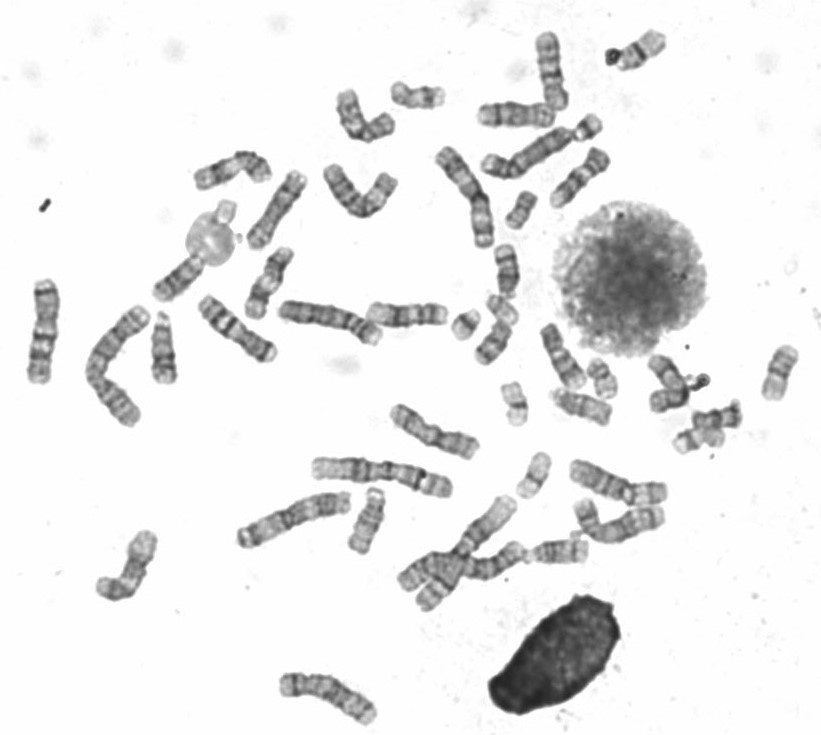chromosomes: (412, 493, 521, 621), (78, 298, 154, 437), (391, 533, 532, 595), (231, 488, 354, 557), (302, 452, 463, 504), (431, 141, 501, 250), (270, 668, 383, 734), (384, 397, 484, 469), (275, 296, 388, 357), (195, 293, 286, 368), (91, 525, 163, 609), (18, 274, 68, 394), (566, 455, 675, 510), (478, 123, 573, 186), (245, 167, 312, 256), (569, 495, 670, 549), (237, 242, 301, 324), (320, 159, 401, 223), (544, 146, 619, 213), (530, 25, 580, 120), (329, 84, 399, 149), (534, 316, 590, 394), (192, 146, 274, 195), (344, 484, 396, 560), (606, 25, 675, 80), (148, 248, 211, 306), (544, 384, 618, 433), (642, 350, 695, 417), (472, 95, 562, 134), (756, 338, 802, 407), (363, 298, 459, 331), (146, 305, 182, 392), (387, 74, 453, 121), (510, 450, 559, 504), (681, 398, 749, 436), (516, 536, 596, 568), (489, 238, 526, 304), (494, 378, 535, 432), (581, 356, 624, 406), (471, 324, 517, 369), (671, 424, 730, 459), (501, 186, 542, 234), (481, 289, 522, 330), (446, 305, 487, 344), (572, 111, 608, 144), (214, 198, 238, 229)
